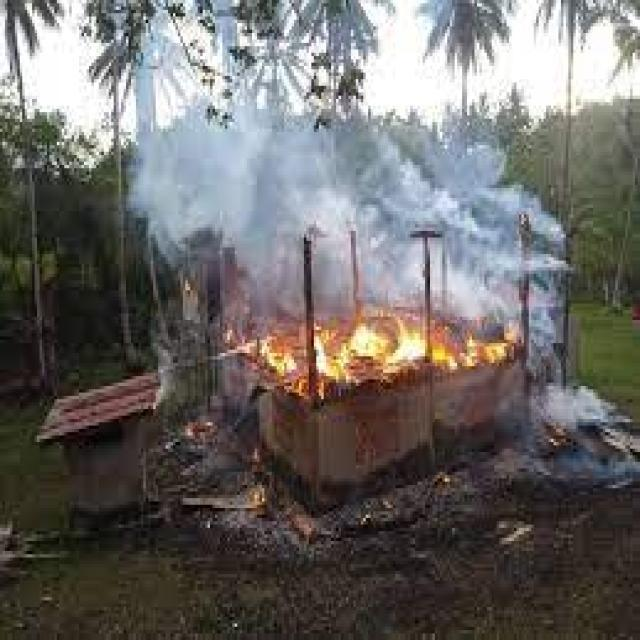Fire: (314, 327, 426, 370), (432, 326, 514, 366), (268, 338, 318, 386)
Smoke: (168, 114, 540, 356)
